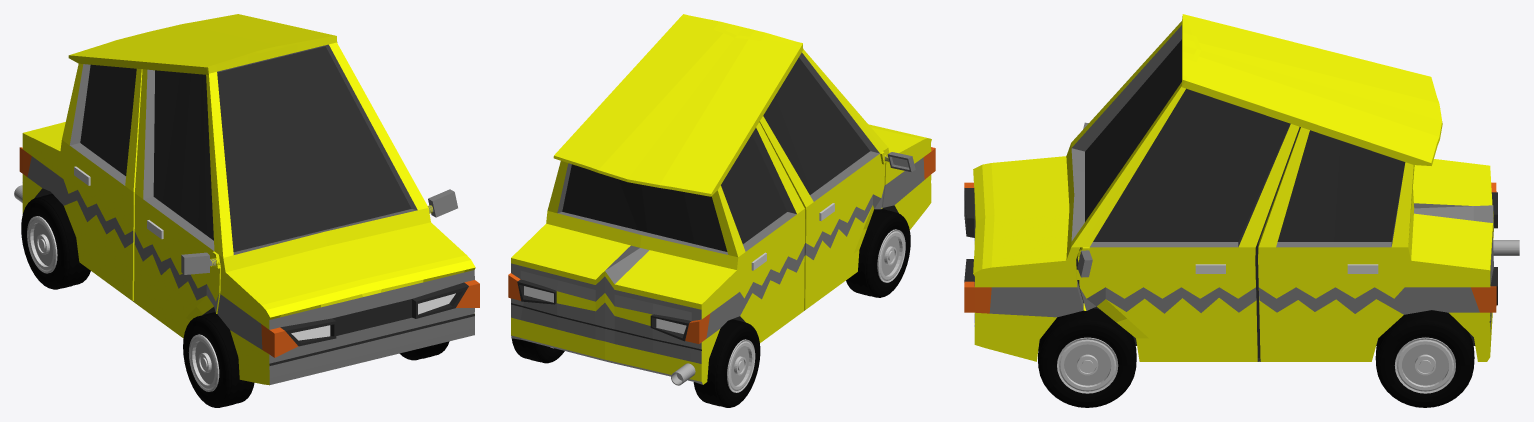
Rendered from CR-CAR-15.fbx.
3 renders of one model, left to right at view 1: azimuth 30°, elevation 25°; view 2: azimuth 150°, elevation 25°; view 3: azimuth 270°, elevation 25°, orthographic. The views are drawn at different scales.
Visible parts, largest first — view 1: BODY, WHEEL.001, WHEEL.004, WHEEL.003; view 2: BODY, WHEEL.004, WHEEL.001, WHEEL.002; view 3: BODY, WHEEL.003, WHEEL.002.
Boxes of the visible parts, x1,y1,x2,y2 form: BODY: [19, 14, 479, 385]; WHEEL.001: [183, 312, 254, 407]; WHEEL.004: [21, 194, 90, 289]; WHEEL.003: [399, 341, 449, 360]; BODY: [508, 14, 935, 384]; WHEEL.004: [693, 319, 760, 407]; WHEEL.001: [846, 209, 910, 297]; WHEEL.002: [511, 337, 564, 363]; BODY: [964, 14, 1497, 361]; WHEEL.003: [1038, 308, 1136, 407]; WHEEL.002: [1375, 310, 1474, 407].
Size of the model in its own units: 131 by 134 by 220.
